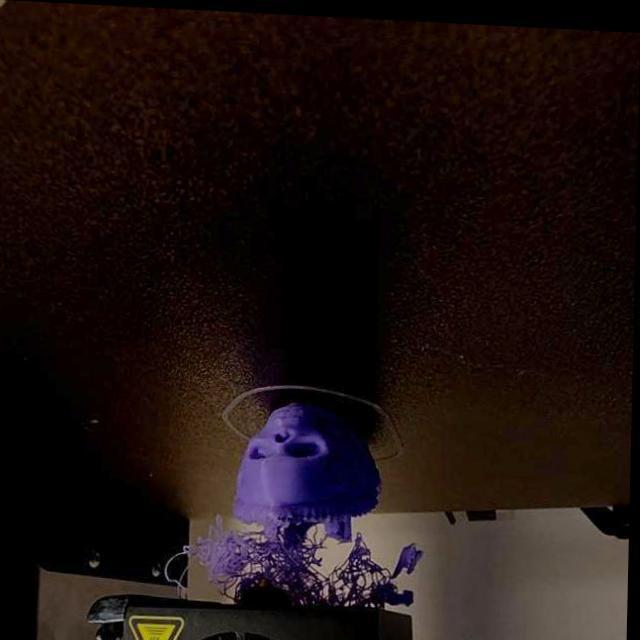spaghetti: (328, 536, 396, 601), (198, 518, 269, 578), (274, 535, 331, 595)
